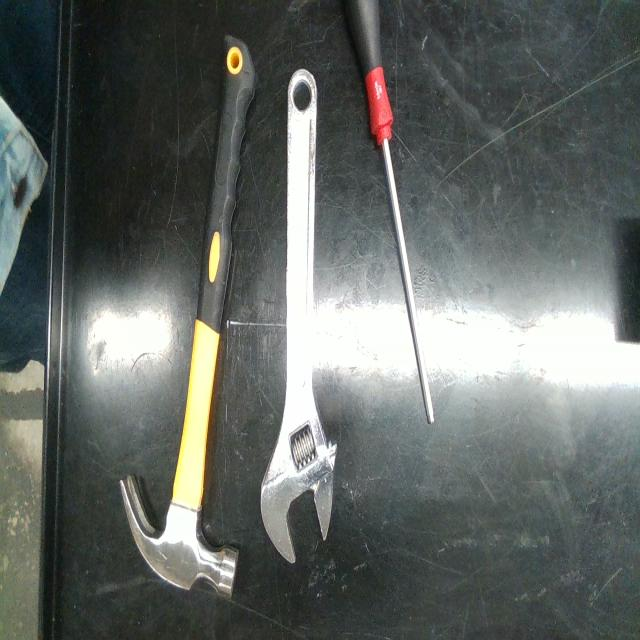Screwdriver: (346, 0, 432, 423)
